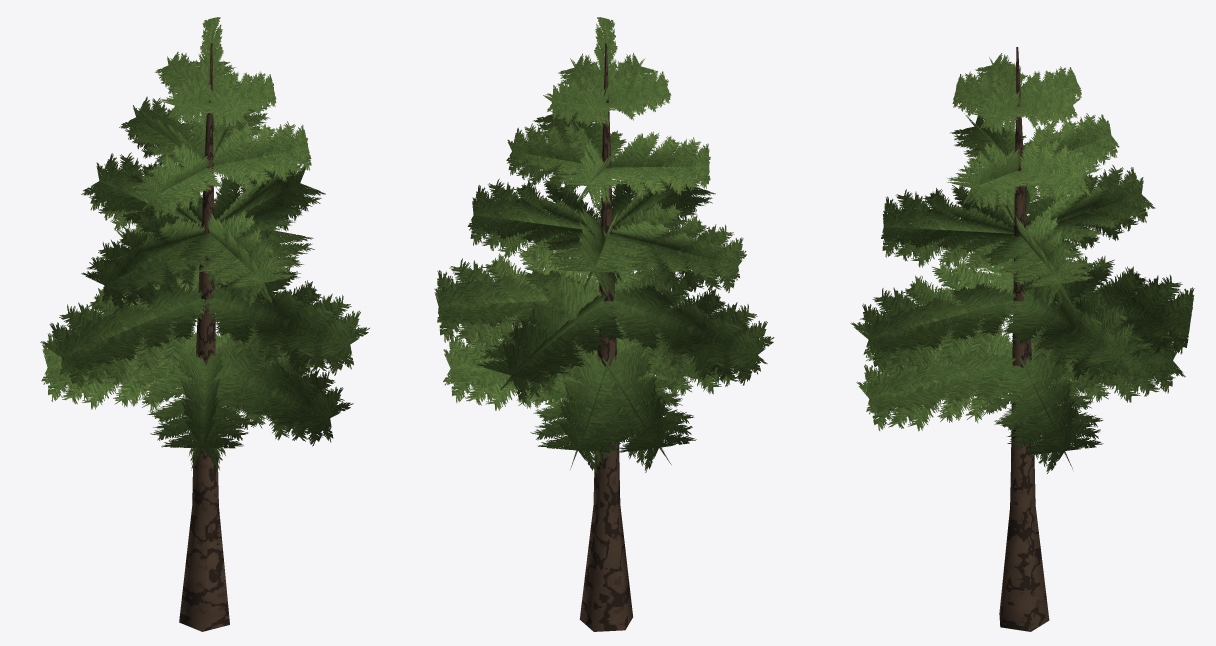
Rendered from pine2_lod1.fbx.
The picture shows the model from 3 angles, left to right: view 1: azimuth 30°, elevation 25°; view 2: azimuth 150°, elevation 25°; view 3: azimuth 270°, elevation 25°; orthographic projection.
Parts seen in each view (by area): view 1: pine2_lod1; view 2: pine2_lod1; view 3: pine2_lod1.
Boxes of the visible parts, bbox=[...] form: pine2_lod1: bbox=[40, 17, 369, 631]; pine2_lod1: bbox=[434, 17, 774, 631]; pine2_lod1: bbox=[850, 47, 1194, 631].
Size of the model in its own units: 6.89 by 12.3 by 6.94.
2 materials, 2 textured.
